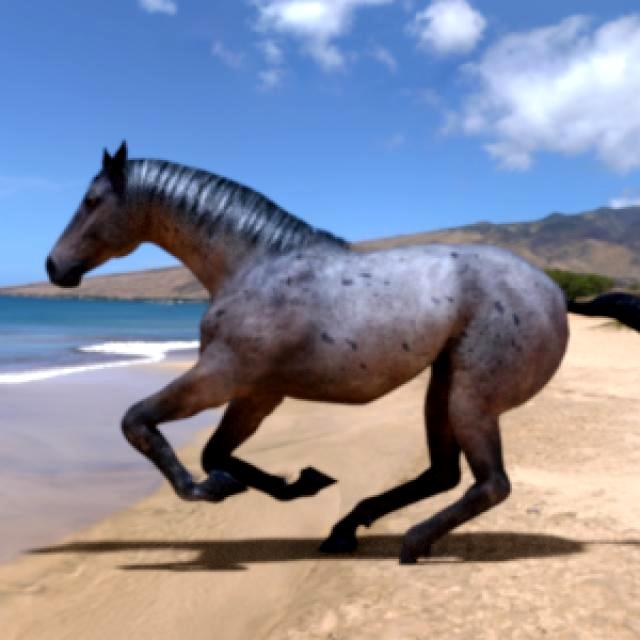horse: (46, 144, 569, 563)
